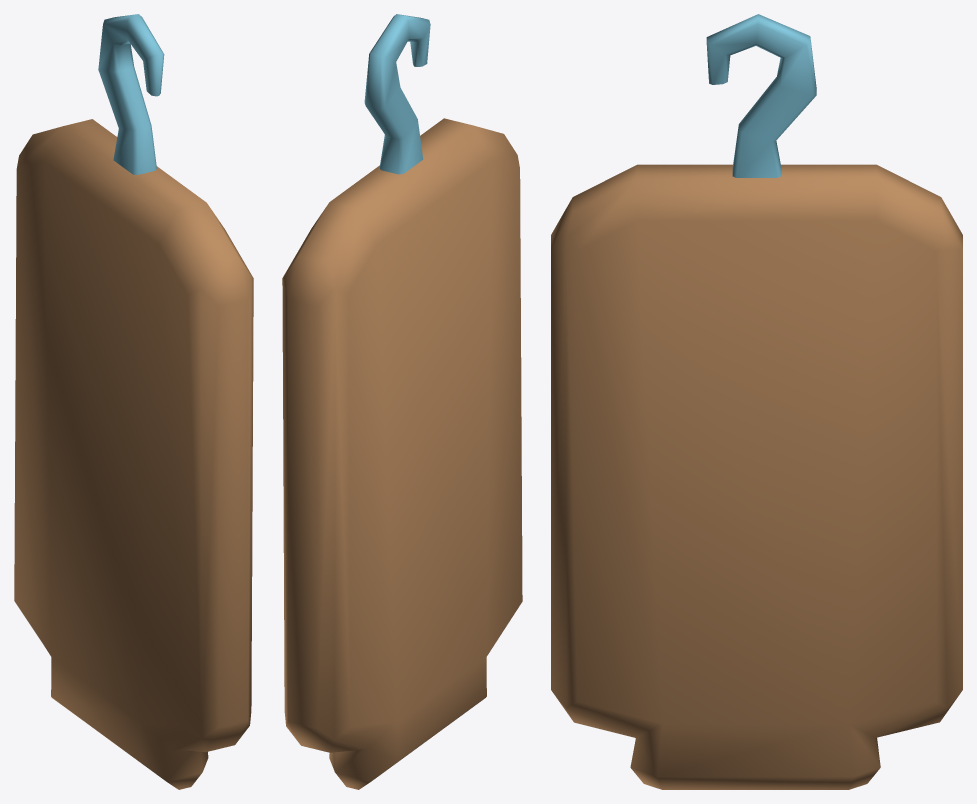
The model's file is Clothes on a hanger 1.fbx.
3 views of the same model, side by side, from view 1: azimuth 30°, elevation 25°; view 2: azimuth 150°, elevation 25°; view 3: azimuth 270°, elevation 25° (orthographic). The views are drawn at different scales.
Parts seen in each view (by area): view 1: Clothes on a hanger 1; view 2: Clothes on a hanger 1; view 3: Clothes on a hanger 1.
Part boxes in pixels (x1,y1,x2,y2): Clothes on a hanger 1: (14,14,253,789); Clothes on a hanger 1: (282,14,522,789); Clothes on a hanger 1: (551,14,962,789).
Bounding box in the file's own units: 16.05 × 153 × 74.64.
